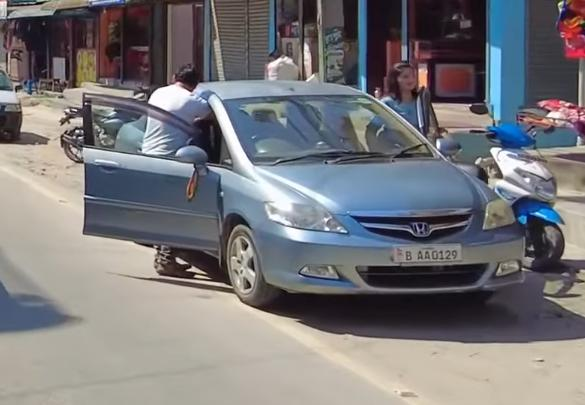car: (79, 78, 531, 310)
scooter: (451, 100, 575, 268)
